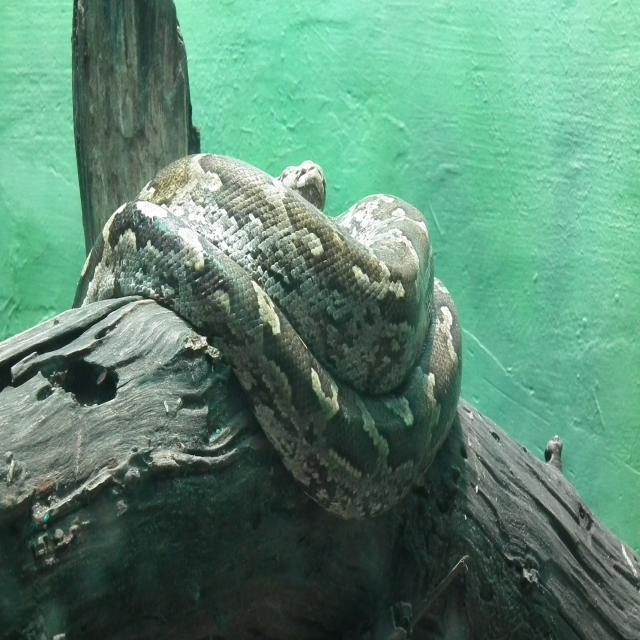Snake: (72, 150, 463, 522)
